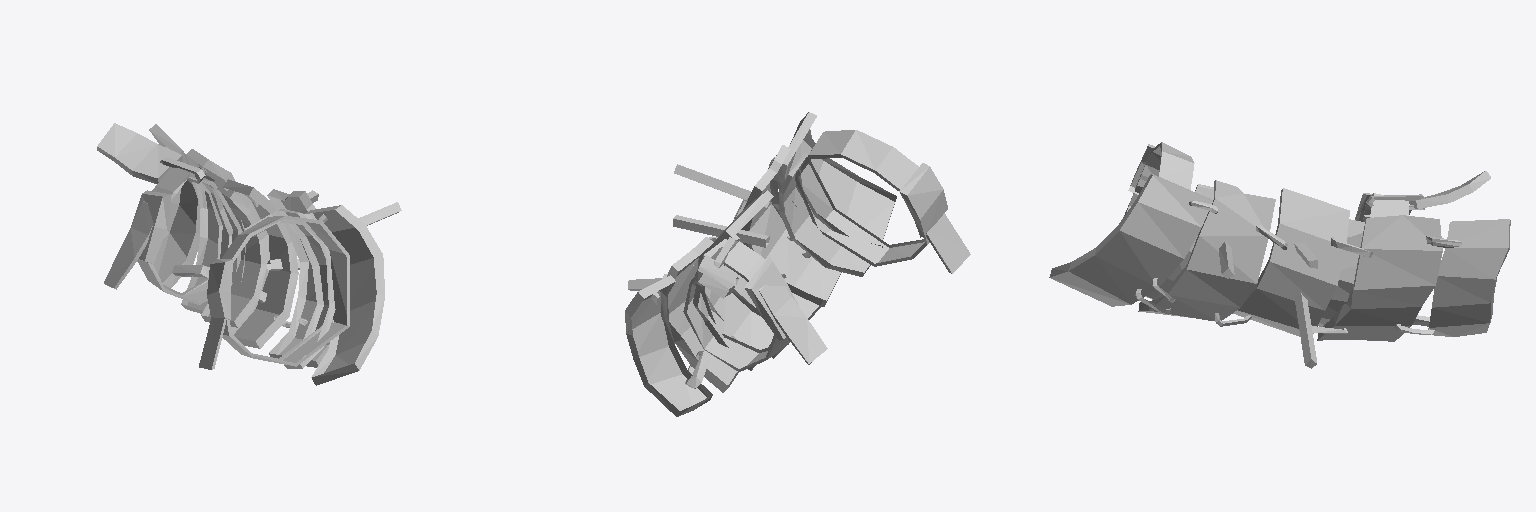
File: HaidaRightForearmobj.obj
The picture shows the model from 3 angles: view 1: azimuth 30°, elevation 25°; view 2: azimuth 150°, elevation 25°; view 3: azimuth 270°, elevation 25°; orthographic projection.
Visible parts, largest first — view 1: HvyRArm:0; view 2: HvyRArm:0; view 3: HvyRArm:0.
Boxes of the visible parts, box(x1,y1,x2,y2) form: HvyRArm:0: box(97, 123, 401, 385); HvyRArm:0: box(625, 112, 970, 416); HvyRArm:0: box(1049, 142, 1510, 368).
Bounding box in the file's own units: 14.72 × 10.47 × 23.76.